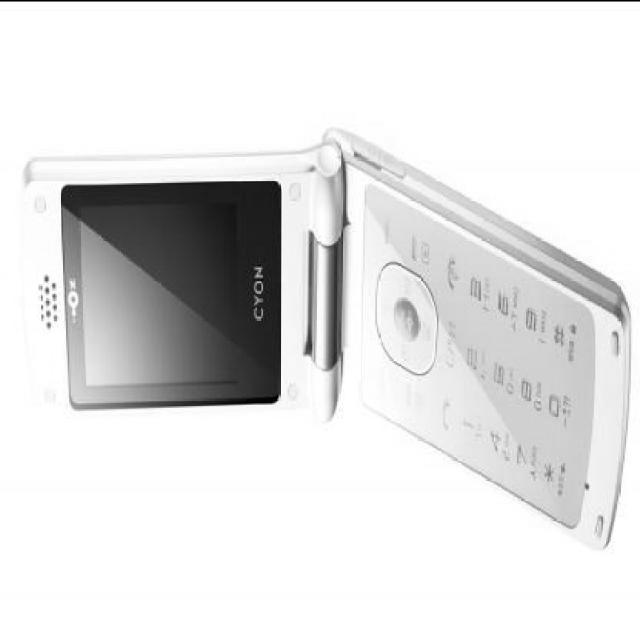fake: (14, 123, 630, 549)
